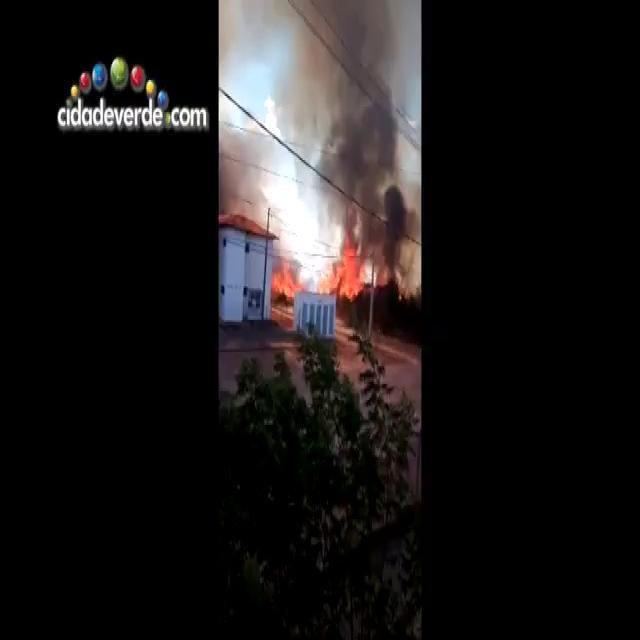Fire: (258, 228, 308, 306), (325, 231, 375, 299)
Smoke: (281, 6, 415, 278), (221, 18, 270, 208)
